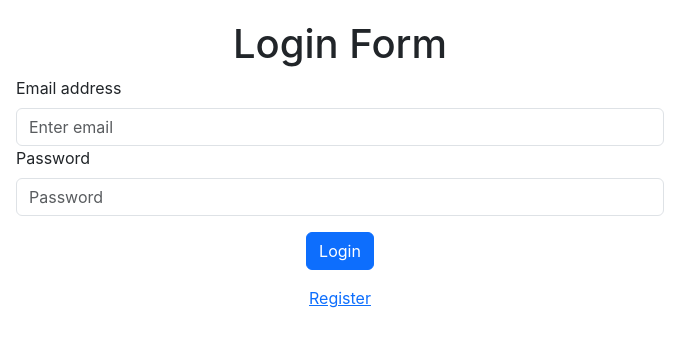
Test case: Login component › displays validation error if email is missing
Click the button "Login" at (340, 251), box [306,232,374,270]
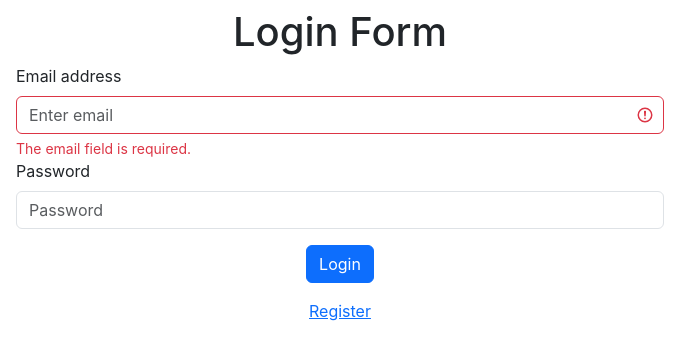
Result: the text "The email field is required." is shown at [16,140,191,156]
